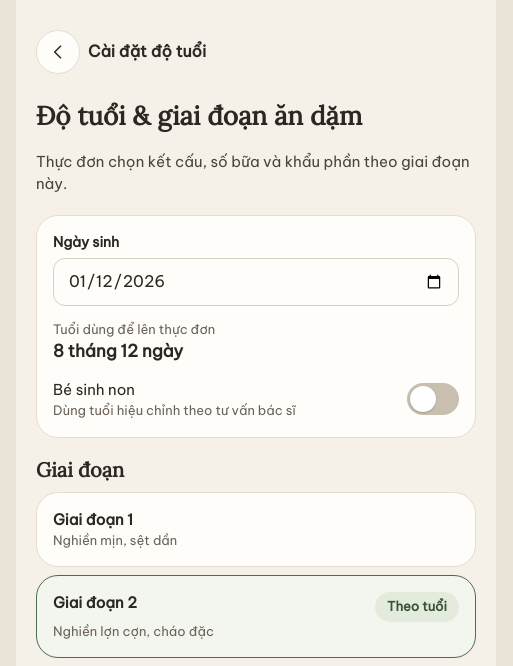
Test: age settings (S10, UC-03) › shows a preview error from the API next to the birth fields
Type "2024-01-01" into the date field labelled "Ngày sinh" at (256, 282), box [53, 258, 459, 306]
(page scrolled)
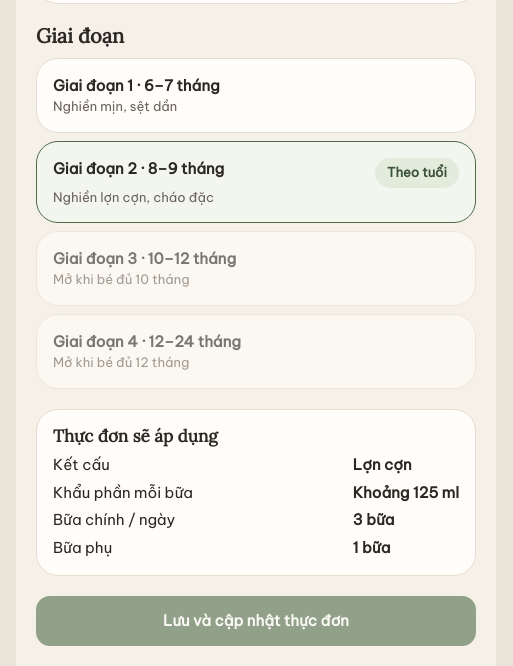
Expected: the button "Lưu và cập nhật thực đơn" is disabled, [36, 596, 476, 646]
